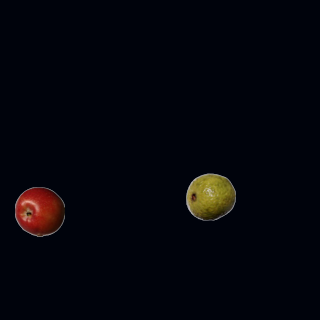Apple Braeburn: (14, 186, 64, 236)
Guava: (185, 171, 235, 221)
